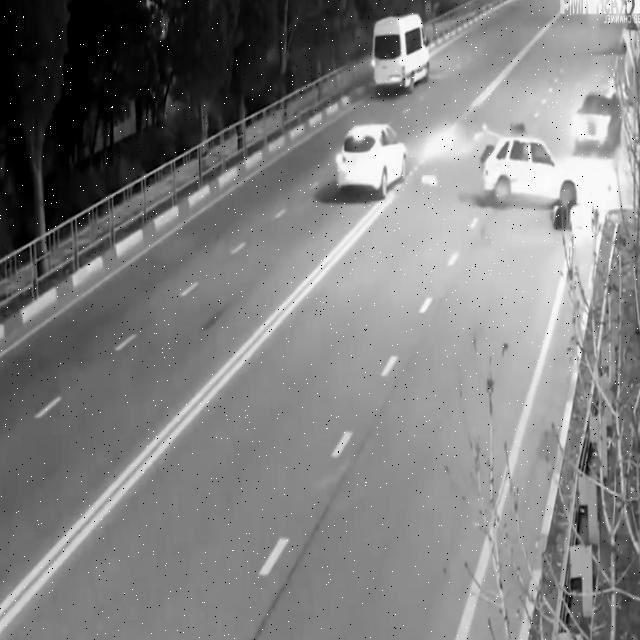accident: (463, 116, 588, 240)
